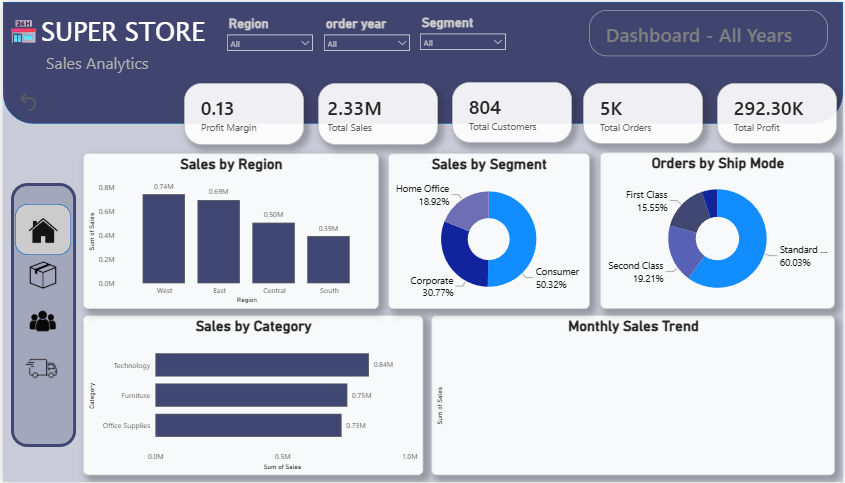

This screenshot's page, from the dashboard's own definition file:
{"tool":"powerbi","page":{"name":"Executive Dashboard","canvas":[1400,800],"ordinal":0},"visuals":[{"type":"textbox","box":[66.7,133.3,75,70],"z":0},{"type":"shape","box":[12.9,301.4,108.6,440],"z":1000},{"type":"lineChart","title":"Monthly Sales Trend","fields":{"Y":["Sum(Orders.Sales)"],"Category":["Orders.Order Date.Variation.Date Hierarchy.Year","Orders.Order Date.Variation.Date Hierarchy.Month"]},"box":[712.9,521.4,672.9,267.1],"z":2000},{"type":"clusteredBarChart","title":"Sales by Category","fields":{"Y":["Sum(Orders.Sales)"],"Category":["Orders.Category"]},"box":[132.9,521.4,567.1,267.1],"z":3000},{"type":"donutChart","title":"Sales by Segment","fields":{"Y":["Sum(Orders.Sales)"],"Category":["Orders.Segment"]},"box":[641.4,251.4,335.7,260],"z":4000},{"type":"donutChart","title":" Orders by Ship Mode","fields":{"Y":["Count(Orders.Order ID)"],"Category":["Orders.Ship Mode"]},"box":[994.3,250,391.4,261.4],"z":5000},{"type":"columnChart","title":"Sales by Region","fields":{"Category":["Orders.Region"],"Y":["Sum(Orders.Sales)"]},"box":[132.9,251.4,492.9,260],"z":6000},{"type":"shape","box":[0,0,1400,202.9],"z":7000},{"type":"textbox","box":[0,12.9,364.3,78.6],"z":8000},{"type":"slicer","fields":{"Values":["Orders.Segment"]},"box":[685.7,17.1,162.9,72.9],"z":9000},{"type":"slicer","fields":{"Values":["Orders.Region"]},"box":[364,18,163,74],"z":10000},{"type":"slicer","fields":{"Values":["Orders.order year"]},"box":[525,18,163,73],"z":11000},{"type":"textbox","box":[67.1,78.6,201.4,55.7],"z":12000},{"type":"cardVisual","fields":{"Data":["Orders.Profit Margin"]},"box":[301.4,134.3,200,102.9],"z":13000},{"type":"cardVisual","fields":{"Data":["Sum(Orders.Sales)"]},"box":[525.7,134.3,200,102.9],"z":14000},{"type":"cardVisual","fields":{"Data":["Orders.Total Orders"]},"box":[967.1,135.7,200,101.4],"z":15000},{"type":"cardVisual","fields":{"Data":["Count(Orders.Customer ID)"]},"box":[748.6,132.9,200,101.4],"z":16000},{"type":"shape","box":[20,336.7,93.3,85],"z":17000},{"type":"cardVisual","fields":{"Data":["Sum(Orders.Profit)"]},"box":[1190,135.7,200,101.4],"z":18000},{"type":"image","box":[37.1,577.1,54.3,68.6],"z":19000},{"type":"image","box":[34.3,347.1,64.3,68.6],"z":20000},{"type":"image","box":[37.1,415.7,60,80],"z":21000},{"type":"image","box":[37.1,497.1,58.6,70],"z":22000},{"type":"cardVisual","fields":{"Data":["Orders.Selected Year"]},"box":[976.7,13.3,398.3,76.7],"z":23000},{"type":"actionButton","box":[21.7,146.7,100,40],"z":24000}]}

Visuals, with their boxes in screenshot pixels (x1, y1, x2, y2), scaled from the page's 1400x800 canvas onto the 845x483 screenshot:
textbox: locate(40, 80, 86, 123)
shape: locate(8, 182, 73, 448)
"Monthly Sales Trend" lineChart: locate(430, 315, 836, 476)
"Sales by Category" clusteredBarChart: locate(80, 315, 422, 476)
"Sales by Segment" donutChart: locate(387, 152, 590, 309)
" Orders by Ship Mode" donutChart: locate(600, 151, 836, 309)
"Sales by Region" columnChart: locate(80, 152, 378, 309)
shape: locate(0, 0, 844, 123)
textbox: locate(0, 8, 220, 55)
slicer - Orders.Segment: locate(414, 10, 512, 54)
slicer - Orders.Region: locate(220, 11, 318, 56)
slicer - Orders.order year: locate(317, 11, 415, 55)
textbox: locate(40, 47, 162, 81)
cardVisual - Orders.Profit Margin: locate(182, 81, 303, 143)
cardVisual - Sum(Orders.Sales): locate(317, 81, 438, 143)
cardVisual - Orders.Total Orders: locate(584, 82, 704, 143)
cardVisual - Count(Orders.Customer ID): locate(452, 80, 573, 141)
shape: locate(12, 203, 68, 255)
cardVisual - Sum(Orders.Profit): locate(718, 82, 839, 143)
image: locate(22, 348, 55, 390)
image: locate(21, 210, 60, 251)
image: locate(22, 251, 59, 299)
image: locate(22, 300, 58, 342)
cardVisual - Orders.Selected Year: locate(590, 8, 830, 54)
actionButton: locate(13, 89, 73, 113)
